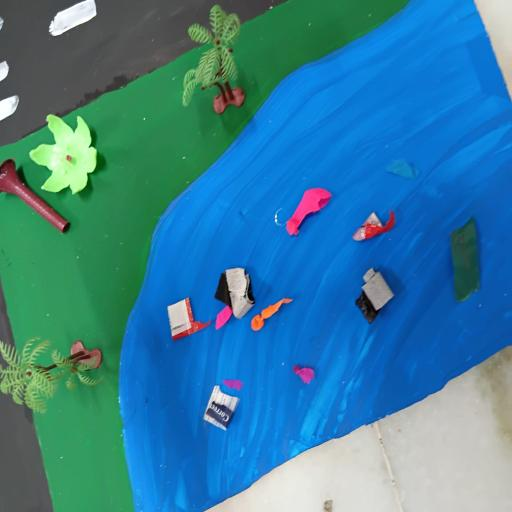fallen trees: (0, 109, 109, 234)
trash: (160, 181, 488, 439)
